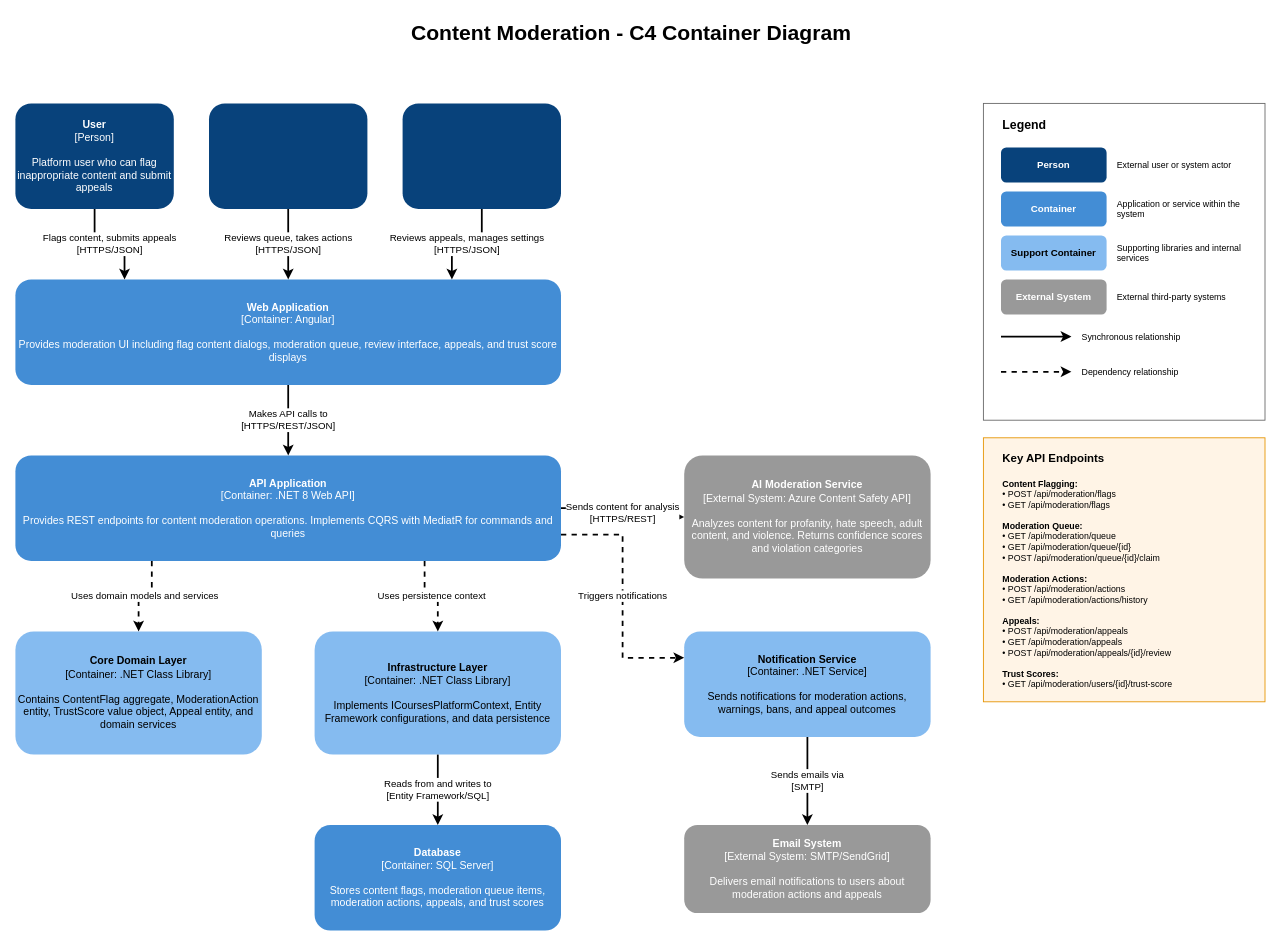
Some shapes in this 1280 by 945 pixel diagram are drawn without their labels. Here are the shapes that lost their labels. From the top down, the centre of each, then its label:
At point 288,156: "Moderator [Person] Reviews flagged content and takes moderation actions".
At point 481,156: "Administrator [Person] Reviews appeals and manages moderation settings".
